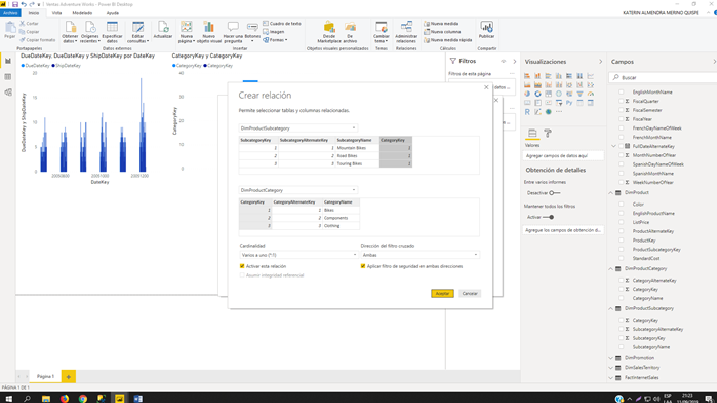

The page's visual inventory and layout, read from the dashboard file:
{"tool":"powerbi","page":{"name":"Página 1","canvas":[1280,720],"ordinal":0},"visuals":[{"type":"clusteredColumnChart","fields":{"Y":["CountNonNull(FactInternetSales.DueDateKey)","CountNonNull(FactInternetSales.DueDateKey)","CountNonNull(FactInternetSales.ShipDateKey)"],"Category":["DimDate.DateKey"]},"box":[10.1,0,450.9,398.3],"z":0},{"type":"clusteredColumnChart","fields":{"Y":["CountNonNull(DimProductSubcategory.CategoryKey)","CountNonNull(DimProductCategory.CategoryKey)"]},"box":[461,0,483.4,360.3],"z":1000}]}

Visuals, with their boxes on the page's 1280x720 design canvas (x1, y1, x2, y2). These are canvas units, not pixel positions in the 717x403 screenshot, which may show the page scaled, cropped or inside an application window:
clusteredColumnChart - CountNonNull(FactInternetSales.DueDateKey) x CountNonNull(FactInternetSales.DueDateKey): 10, 0, 461, 398
clusteredColumnChart - CountNonNull(DimProductSubcategory.CategoryKey) x CountNonNull(DimProductCategory.CategoryKey): 461, 0, 944, 360
